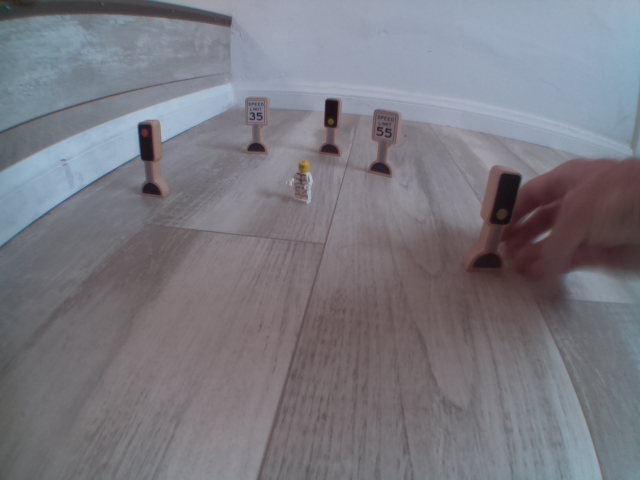Green Traffic Light: (483, 158, 519, 229), (316, 96, 343, 134)
Speed Limit 35: (239, 89, 275, 130)
Speed Limit 55: (133, 118, 163, 166), (372, 102, 399, 149)
person: (278, 147, 324, 215)
